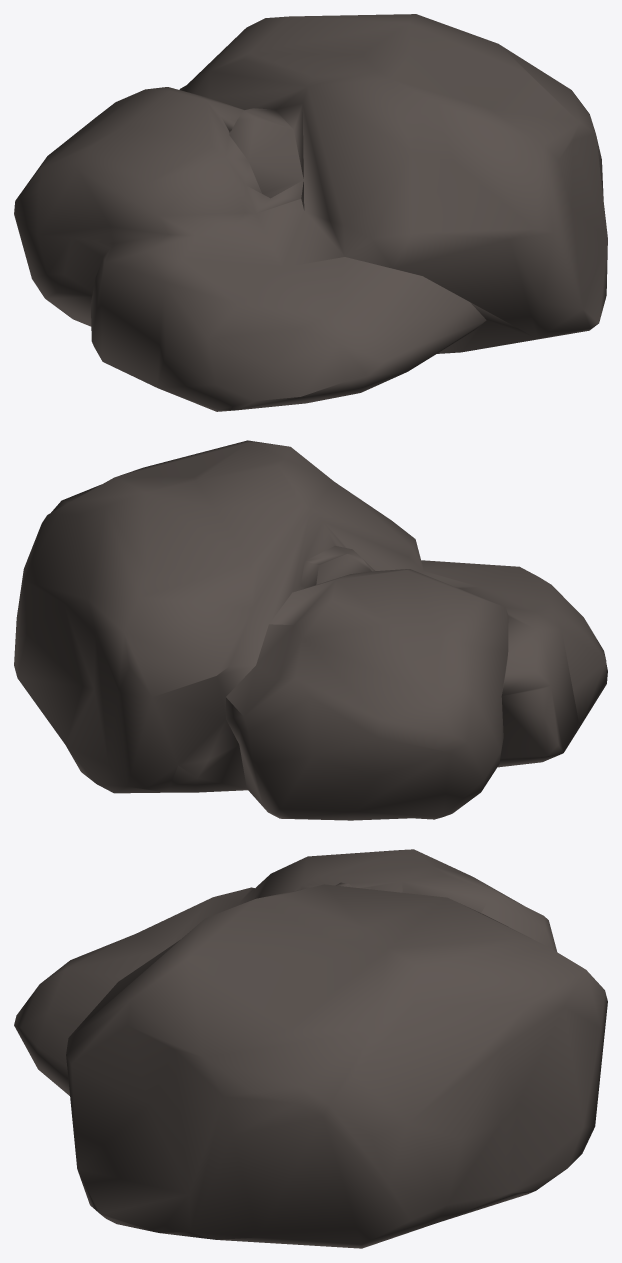
File: Environment_Cliff1.low.gltf
The picture shows the model from 3 angles, top to bottom: view 1: azimuth 30°, elevation 25°; view 2: azimuth 150°, elevation 25°; view 3: azimuth 270°, elevation 25°; orthographic projection. The views are drawn at different scales.
Visible parts, largest first — view 1: Environment_Cliff1; view 2: Environment_Cliff1; view 3: Environment_Cliff1.
Boxes of the visible parts, x1,y1,x2,y2 form: Environment_Cliff1: (14, 14, 607, 411); Environment_Cliff1: (14, 440, 607, 820); Environment_Cliff1: (14, 849, 607, 1248).
Bounding box in the file's own units: 5.62 × 2.96 × 5.39.
1 material, 1 textured.
